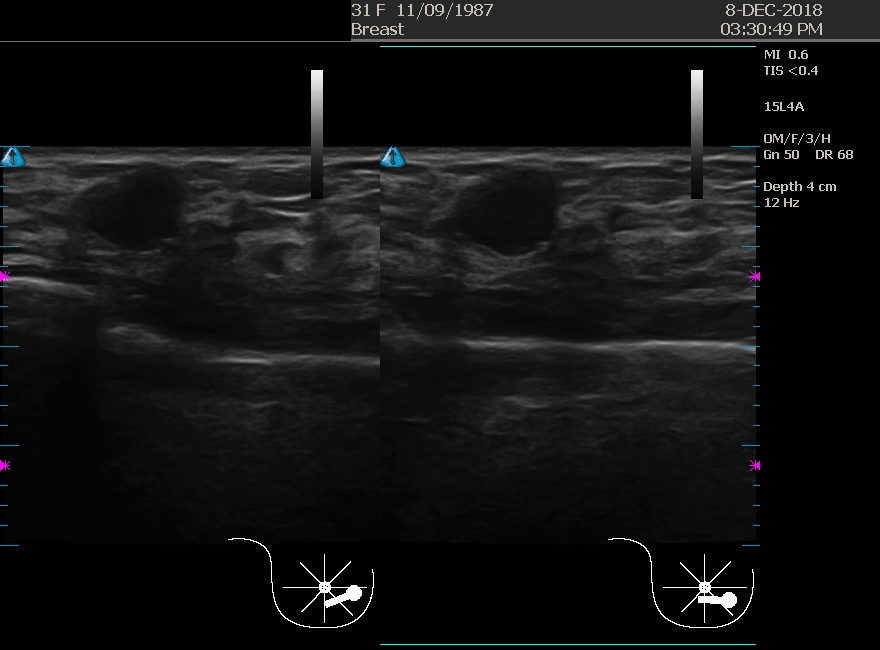BIRADS_4: (40, 150, 232, 342), (415, 155, 607, 347)
